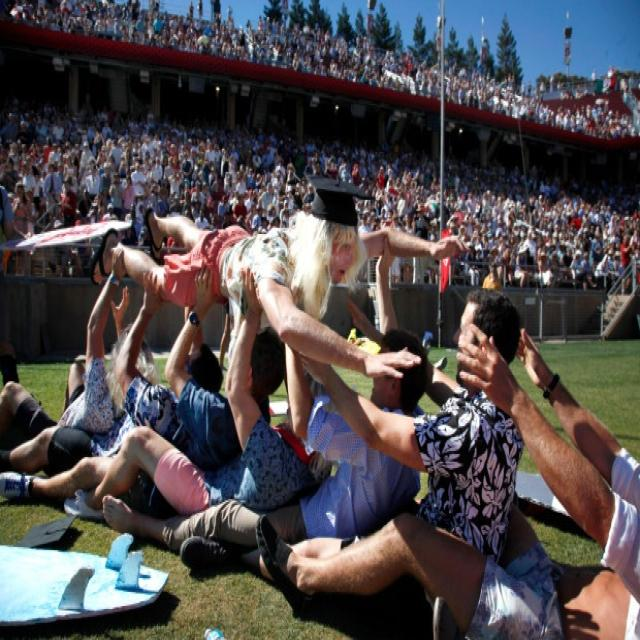body: (1, 0, 640, 308), (251, 322, 640, 640), (101, 229, 435, 561), (178, 285, 526, 583), (86, 168, 472, 382), (59, 262, 337, 519), (0, 260, 287, 504), (0, 268, 225, 479), (0, 245, 159, 443), (0, 172, 30, 386), (7, 180, 33, 280), (42, 161, 63, 233), (81, 161, 102, 206), (108, 172, 126, 220), (118, 174, 136, 222), (21, 161, 37, 214), (216, 144, 230, 197), (129, 160, 146, 195)
